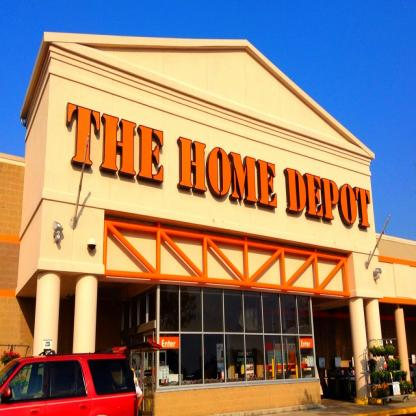Car: (1, 347, 138, 416)
